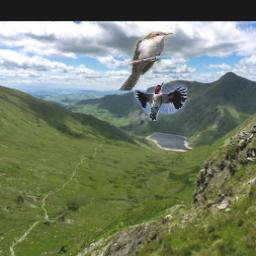Cuckoo: (120, 31, 174, 91)
Woodpecker: (135, 82, 188, 121)
